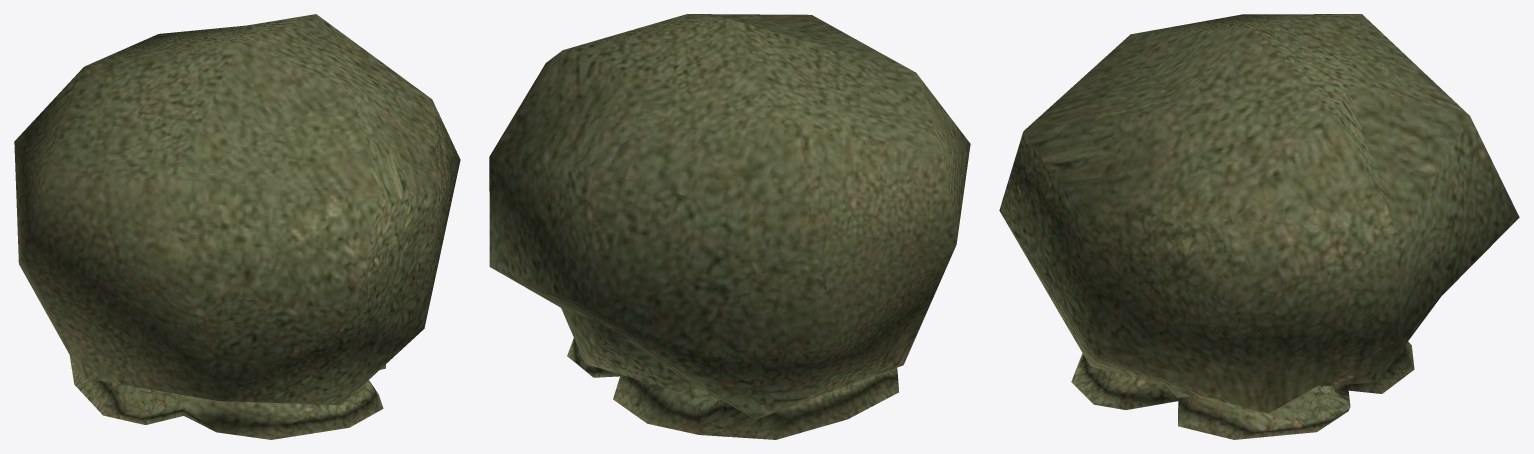
Rendered from world-bush.glb.
The picture shows the model from 3 angles, left to right: view 1: azimuth 30°, elevation 25°; view 2: azimuth 150°, elevation 25°; view 3: azimuth 270°, elevation 25°; orthographic projection. The views are drawn at different scales.
Bounding box in the file's own units: 0.9927 × 0.7258 × 1.
Materials: 1 (1 with a texture image).
